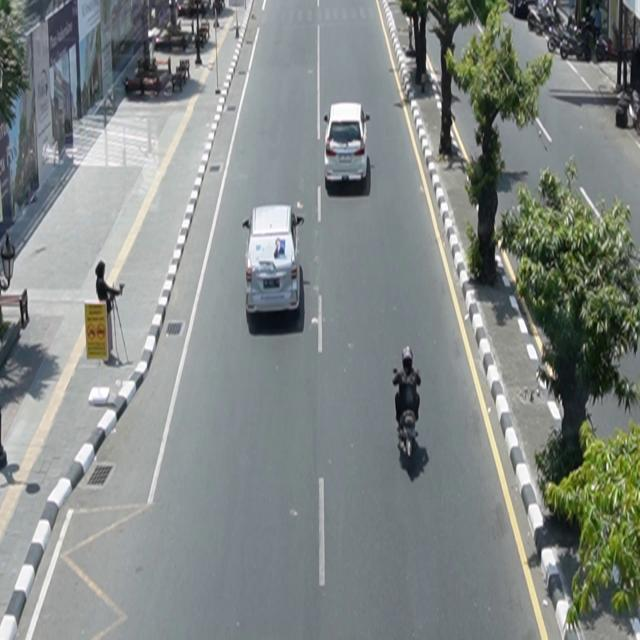car: (243, 204, 305, 317), (324, 102, 371, 189)
